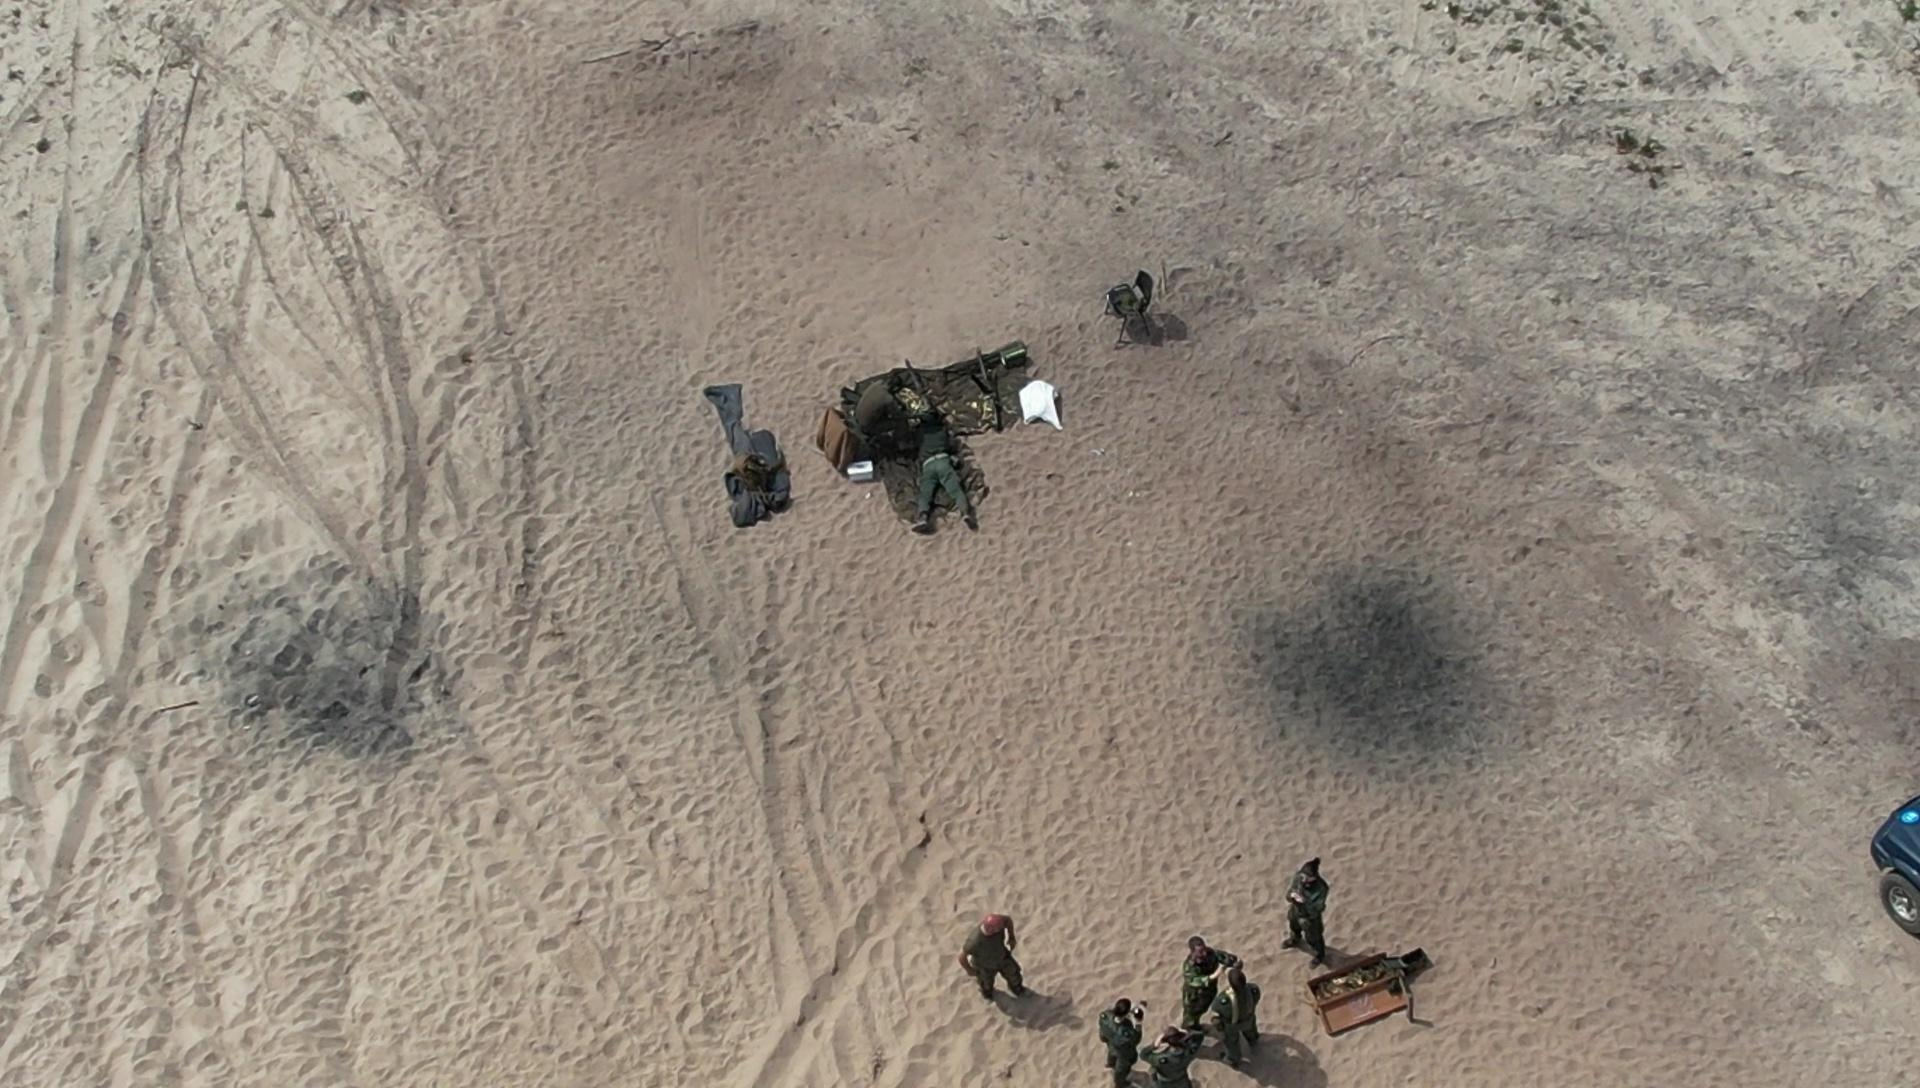Soldier: (889, 396, 980, 543), (1265, 856, 1365, 973), (948, 897, 1029, 1008), (853, 371, 928, 479), (1097, 971, 1163, 1088), (1203, 964, 1273, 1071), (1163, 928, 1226, 1021), (1137, 1031, 1232, 1088)
